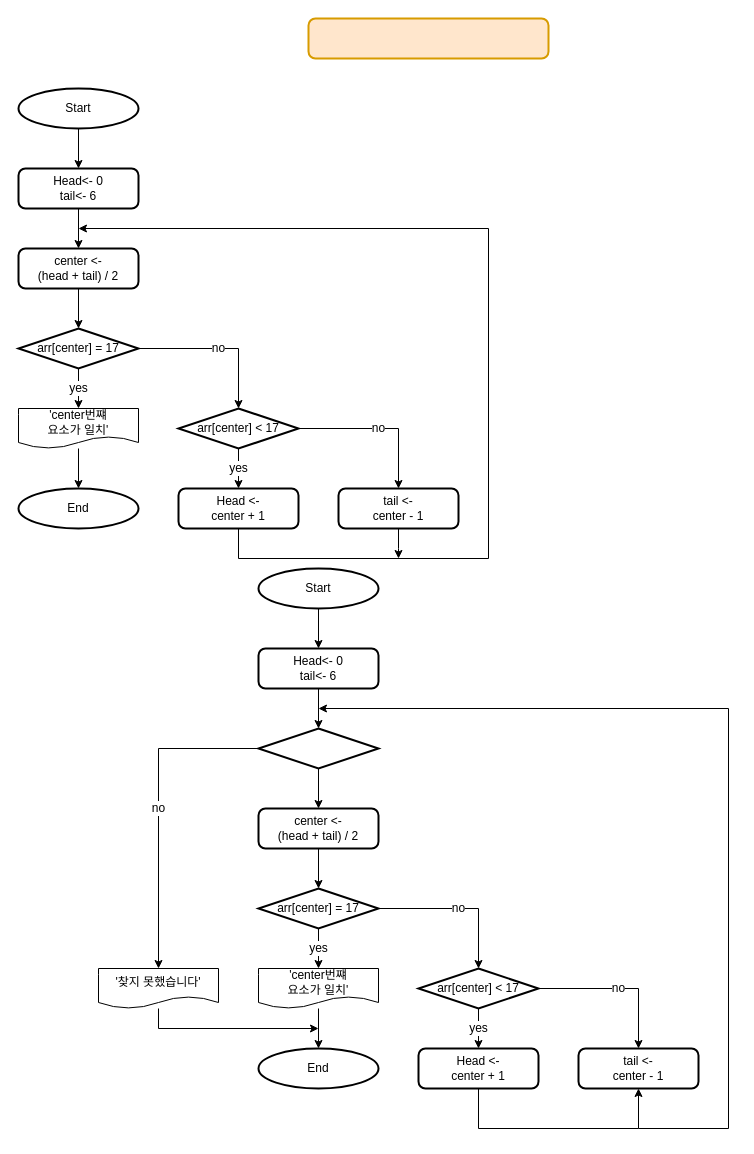
The diagram is 754 pixels wide and 1154 high, and some of its shapes have lost their labels. The shapes that lost their labels are listed below. From the top down, each one's centre as x and y in pixels, then its label:
At (428,38): "선형 탐색법".
At (318,748): "Head <=tail".
